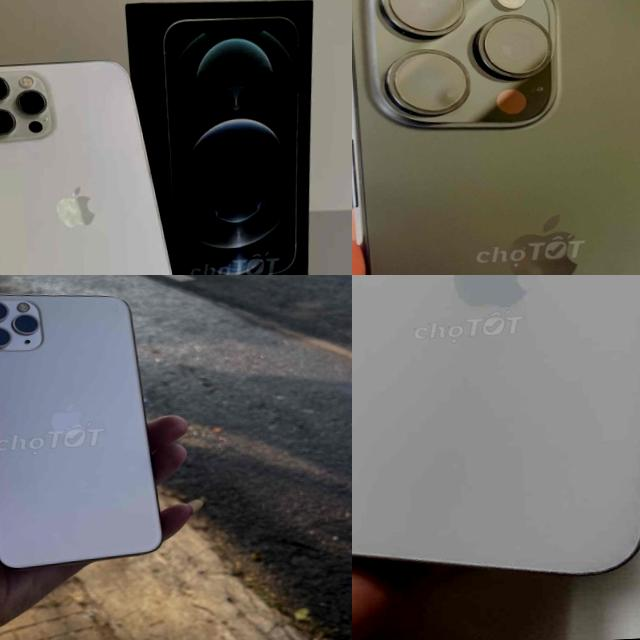gen_11: (0, 276, 172, 571)
gen_12_13: (0, 52, 195, 275)
gen_15: (352, 275, 640, 599)
gen_16: (352, 0, 640, 275)
